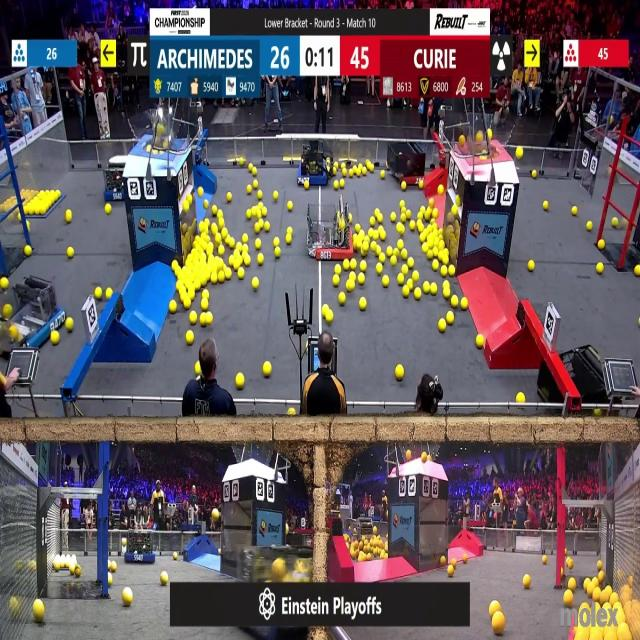ball_airborne: (212, 510, 219, 521), (517, 147, 524, 158), (475, 132, 482, 142), (407, 450, 413, 461), (145, 144, 152, 153), (460, 136, 465, 146), (488, 131, 493, 141), (422, 450, 427, 460)
ball_ground: (34, 600, 45, 623), (492, 615, 504, 636), (121, 590, 131, 606), (396, 364, 404, 380), (237, 374, 245, 390), (264, 361, 273, 375), (490, 600, 499, 614), (564, 592, 572, 607), (66, 318, 74, 332), (523, 574, 531, 588), (4, 305, 12, 319), (162, 571, 170, 584), (50, 333, 58, 346), (367, 229, 376, 240), (186, 332, 193, 346), (193, 362, 200, 376), (170, 302, 178, 314), (0, 278, 8, 290), (451, 295, 459, 307), (429, 283, 437, 295), (460, 296, 468, 308), (188, 313, 196, 325), (347, 280, 355, 292), (518, 392, 526, 404), (444, 286, 452, 298), (477, 337, 485, 349), (442, 252, 450, 264), (359, 299, 366, 312), (440, 319, 447, 332), (10, 325, 17, 338), (202, 301, 210, 312), (596, 264, 604, 275), (350, 261, 358, 272), (340, 292, 347, 304), (238, 268, 245, 280), (66, 210, 73, 222), (357, 274, 364, 286), (415, 288, 422, 300), (206, 314, 213, 326), (211, 222, 218, 234), (218, 272, 225, 284), (253, 220, 260, 232), (226, 236, 233, 248), (594, 410, 602, 420), (254, 208, 262, 218), (448, 312, 454, 325), (359, 262, 366, 273), (331, 276, 338, 287), (183, 300, 190, 311), (224, 270, 231, 281), (397, 275, 404, 286), (442, 267, 449, 278), (423, 283, 430, 294), (243, 208, 250, 219), (362, 241, 369, 252), (207, 243, 214, 254), (68, 247, 74, 259), (96, 287, 102, 299), (252, 278, 258, 290), (326, 312, 332, 324), (568, 577, 574, 589), (106, 288, 113, 298), (218, 246, 225, 256), (377, 265, 384, 275), (105, 204, 112, 214), (400, 249, 407, 259), (336, 266, 343, 276), (369, 242, 376, 252), (354, 240, 361, 250), (425, 208, 432, 218), (528, 262, 534, 273), (383, 276, 389, 287), (449, 267, 455, 278), (402, 286, 408, 297), (173, 262, 179, 273), (344, 261, 350, 272), (349, 272, 356, 281), (257, 254, 263, 264), (448, 566, 454, 576), (26, 246, 32, 256), (276, 248, 282, 258), (380, 231, 386, 241), (265, 221, 271, 231), (287, 202, 293, 212), (413, 271, 419, 281), (254, 240, 260, 250), (244, 255, 250, 265), (390, 212, 396, 222), (440, 184, 446, 194), (432, 262, 438, 272), (611, 217, 617, 227), (420, 234, 426, 244), (452, 206, 458, 216), (401, 265, 407, 275), (212, 206, 218, 216), (378, 214, 384, 224), (211, 274, 217, 284), (227, 256, 233, 266), (110, 562, 116, 572), (397, 222, 403, 232), (419, 207, 425, 217), (215, 234, 221, 244), (218, 218, 224, 228), (183, 202, 189, 212), (194, 280, 200, 290), (288, 410, 295, 418), (331, 181, 338, 189), (235, 249, 242, 257), (635, 267, 640, 278), (409, 257, 414, 268), (418, 220, 423, 231), (588, 221, 594, 230), (598, 241, 604, 250), (274, 238, 280, 247), (203, 289, 209, 298), (368, 217, 374, 226), (286, 236, 292, 245), (408, 279, 414, 288), (431, 209, 437, 218), (246, 184, 252, 193), (407, 210, 413, 219), (376, 245, 382, 254), (236, 241, 242, 250), (541, 556, 547, 565), (198, 187, 204, 196), (242, 244, 248, 253), (392, 247, 398, 256), (397, 240, 403, 249), (367, 165, 373, 174), (411, 220, 416, 230), (108, 574, 113, 584), (542, 202, 547, 212), (400, 212, 405, 222), (427, 250, 432, 260), (201, 220, 206, 230), (567, 559, 572, 569), (380, 254, 386, 262), (419, 181, 425, 189), (322, 305, 328, 313), (172, 553, 178, 561), (264, 209, 270, 217), (355, 223, 361, 231), (348, 169, 354, 177), (221, 230, 227, 238), (356, 168, 362, 176), (253, 180, 259, 188), (234, 265, 240, 273), (378, 224, 384, 232), (243, 235, 248, 244), (572, 207, 577, 216), (226, 191, 231, 200), (274, 190, 279, 199), (388, 247, 393, 256), (391, 256, 396, 265), (340, 182, 345, 191), (422, 242, 427, 251), (428, 199, 433, 208), (286, 226, 292, 233), (462, 555, 468, 562), (331, 169, 337, 176), (532, 171, 537, 179), (400, 182, 405, 190), (305, 182, 310, 190), (381, 171, 386, 179), (257, 190, 262, 198), (442, 556, 447, 564), (205, 201, 210, 209), (252, 168, 257, 176), (361, 168, 366, 176), (440, 241, 445, 249), (381, 553, 386, 561), (595, 562, 600, 570), (56, 189, 61, 197), (399, 201, 404, 208), (451, 558, 456, 565), (257, 202, 262, 209), (217, 209, 221, 217), (560, 568, 564, 576), (376, 209, 380, 216), (248, 165, 252, 172), (564, 550, 568, 557), (353, 234, 357, 241), (194, 236, 198, 242), (218, 550, 221, 557)
goal: (459, 116, 519, 158), (130, 114, 187, 154)
robot_blue: (9, 275, 66, 348), (298, 140, 334, 188), (125, 529, 158, 563), (102, 157, 126, 202)
robot_red: (307, 210, 354, 262), (387, 140, 429, 186)
